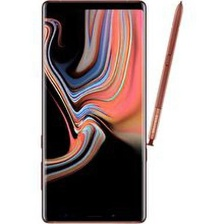phone: (38, 0, 149, 224)
